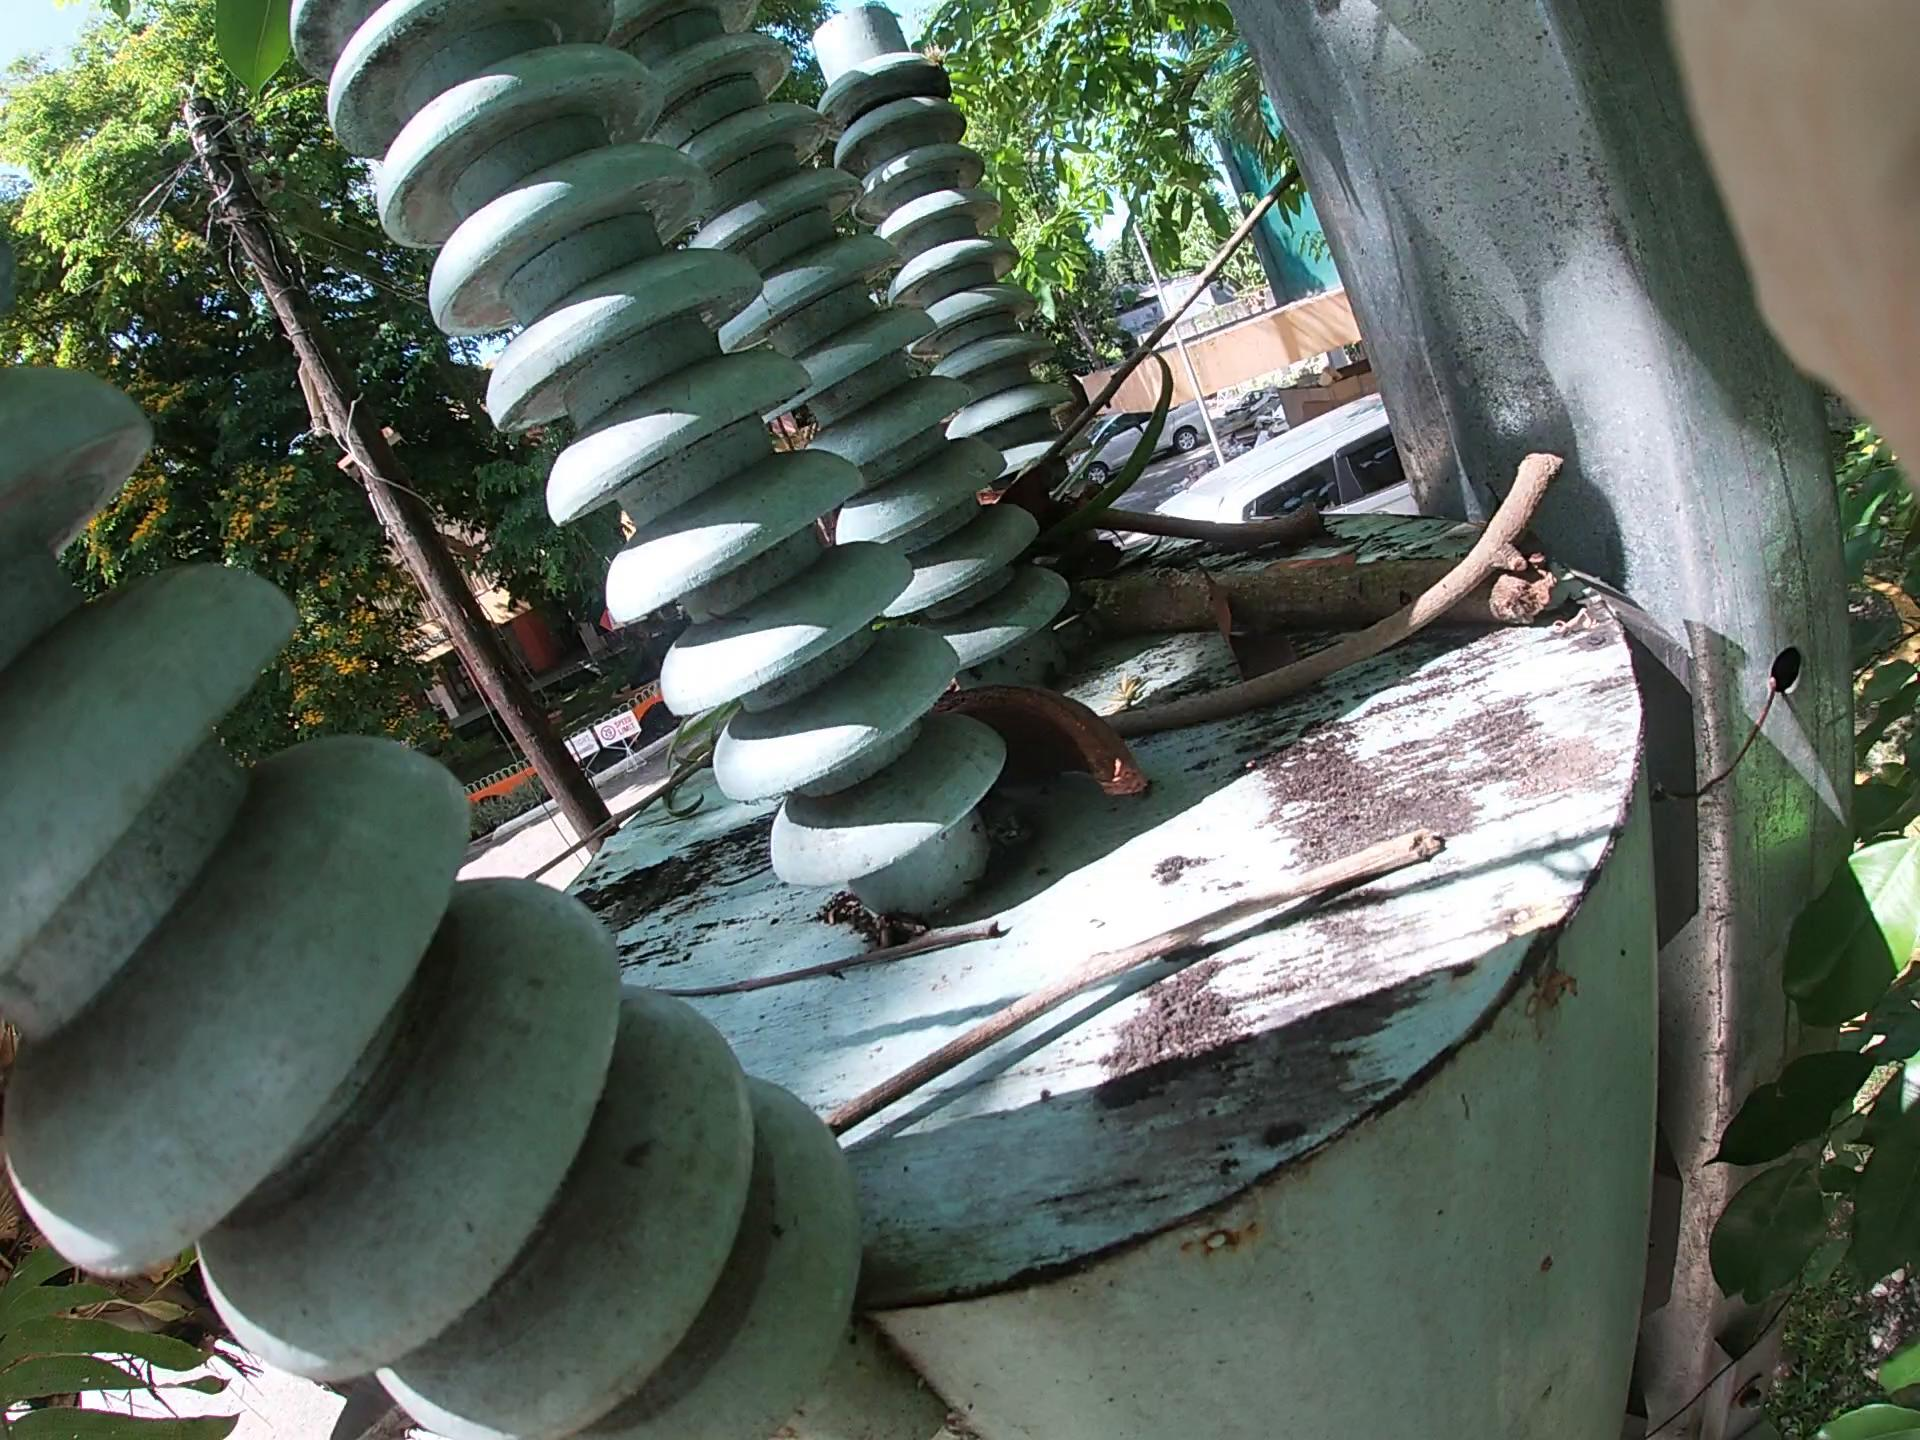branch with leaves: (862, 437, 1563, 669)
mahogany fruit: (919, 641, 1179, 874)
tree branch: (390, 251, 1373, 914), (881, 886, 1430, 1150), (1128, 554, 1544, 734), (641, 962, 1020, 1000)
